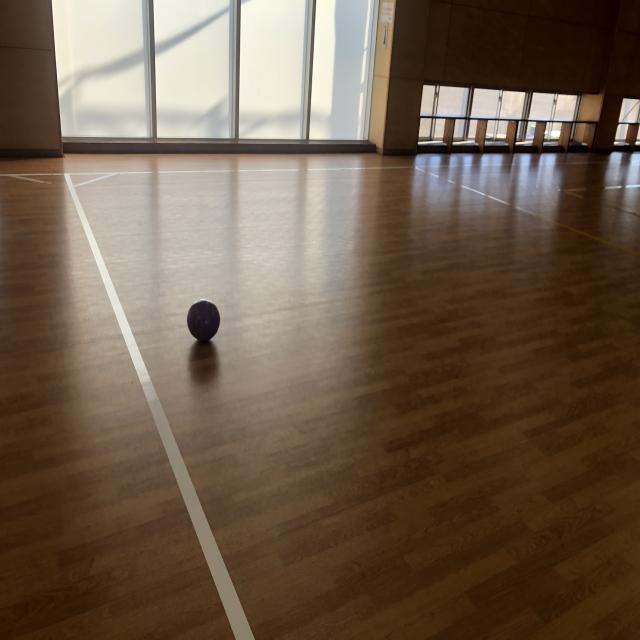purple_ball: (186, 300, 220, 342)
